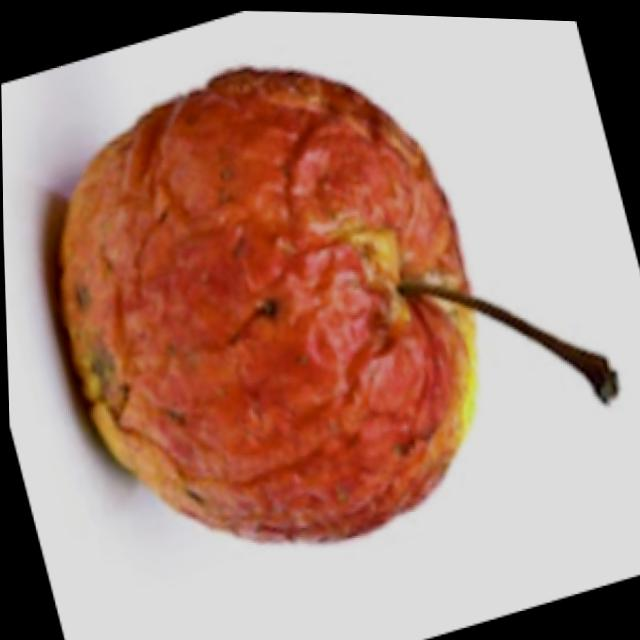organik: (66, 68, 505, 558)
